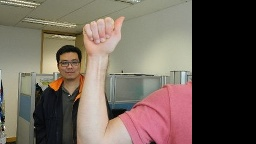Pugno: (78, 12, 128, 52)
